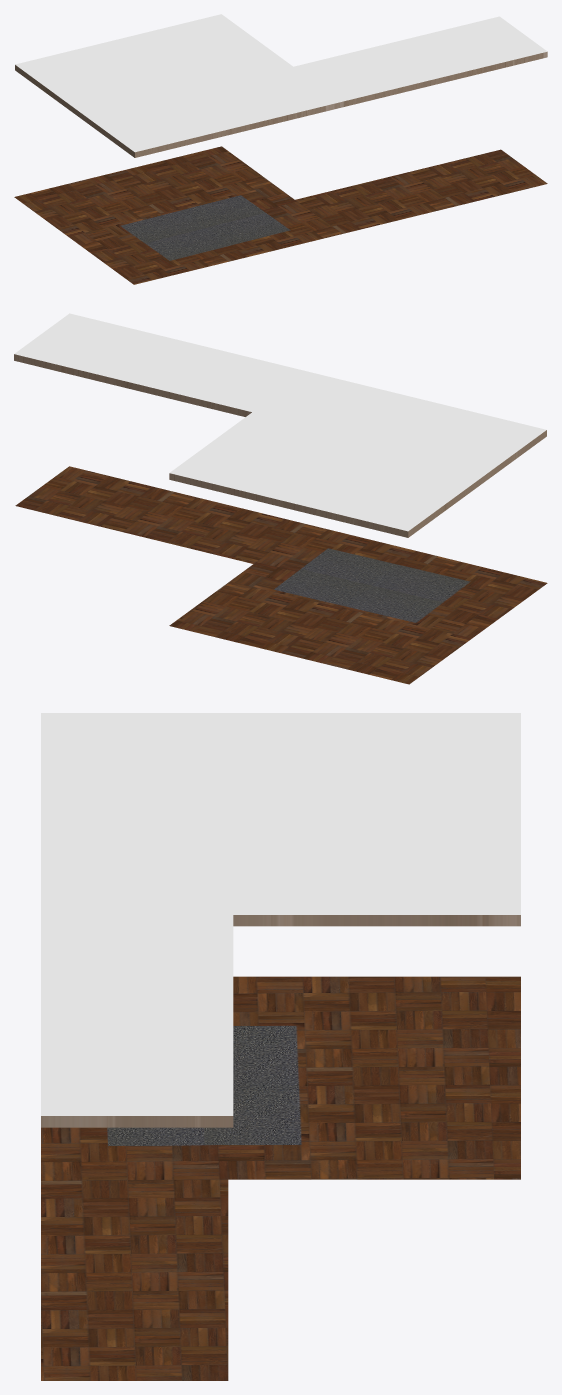
Rendered from xizhentsan_FLOOR&SKY.fbx.
3 views of the same model, one above another, from view 1: azimuth 30°, elevation 25°; view 2: azimuth 150°, elevation 25°; view 3: azimuth 270°, elevation 25° (orthographic). The views are drawn at different scales.
Parts seen in each view (by area): view 1: FLOOR_SKY1; view 2: FLOOR_SKY1; view 3: FLOOR_SKY1.
Boxes of the visible parts, x1,y1,x2,y2 form: FLOOR_SKY1: [14, 14, 547, 284]; FLOOR_SKY1: [14, 313, 547, 684]; FLOOR_SKY1: [41, 713, 520, 1380].
Bounding box in the file's own units: 845 × 258 × 424.
Materials: 1 (1 with a texture image).
